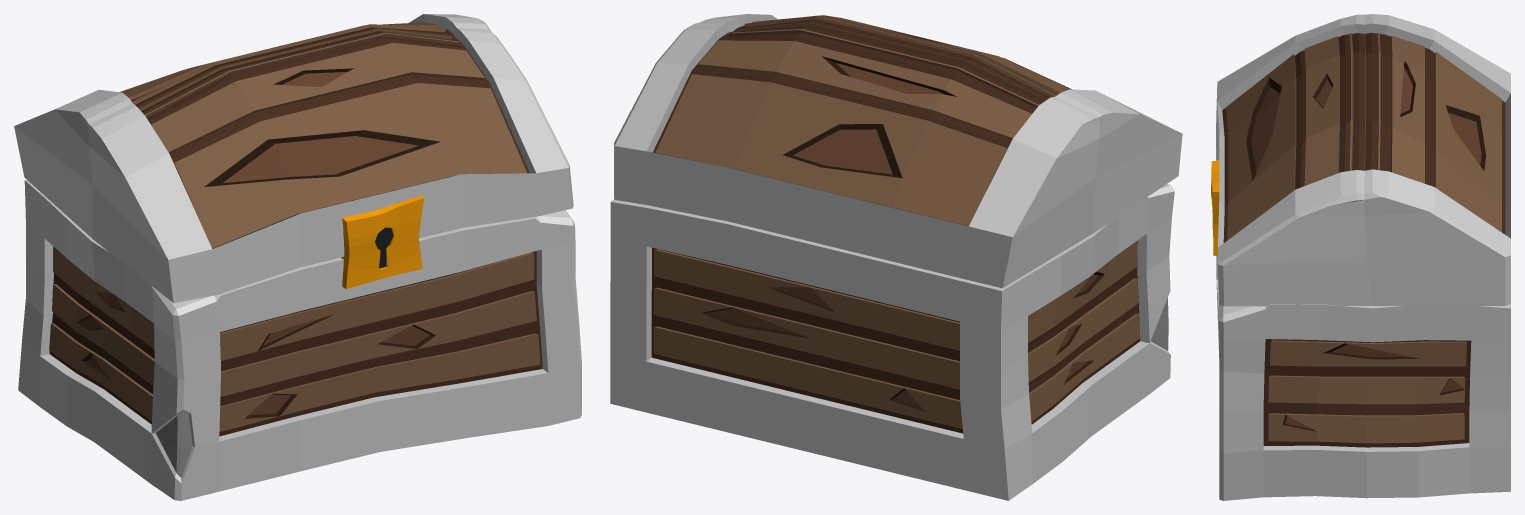
File: treasure_chest.glb
3 renders of one model, left to right at view 1: azimuth 30°, elevation 25°; view 2: azimuth 150°, elevation 25°; view 3: azimuth 270°, elevation 25°, orthographic. The views are drawn at different scales.
Visible parts, largest first — view 1: Cube_0; view 2: Cube_0; view 3: Cube_0.
Boxes of the visible parts, bbox=[...] form: Cube_0: bbox=[14, 14, 581, 500]; Cube_0: bbox=[610, 14, 1182, 500]; Cube_0: bbox=[1211, 14, 1510, 500].
Size of the model in its own units: 2.14 by 1.73 by 1.44.
Materials: 1 (1 with a texture image).
